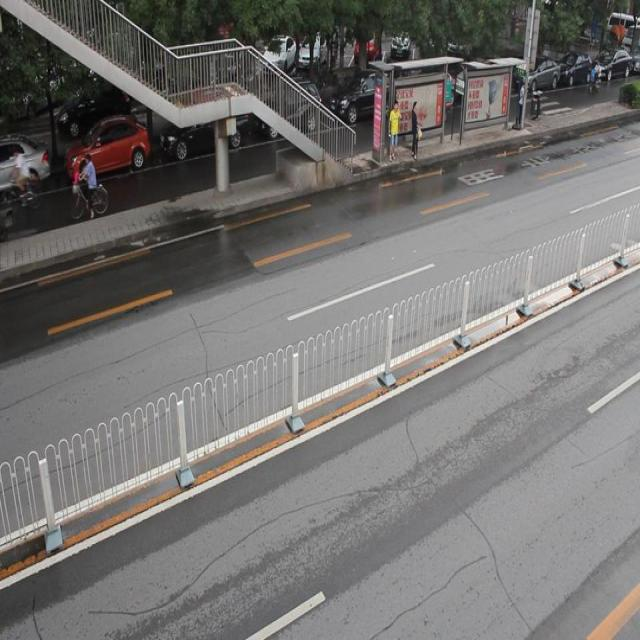car: (65, 114, 150, 178), (157, 106, 248, 164), (256, 79, 321, 139), (331, 71, 398, 128), (1, 137, 52, 196)
